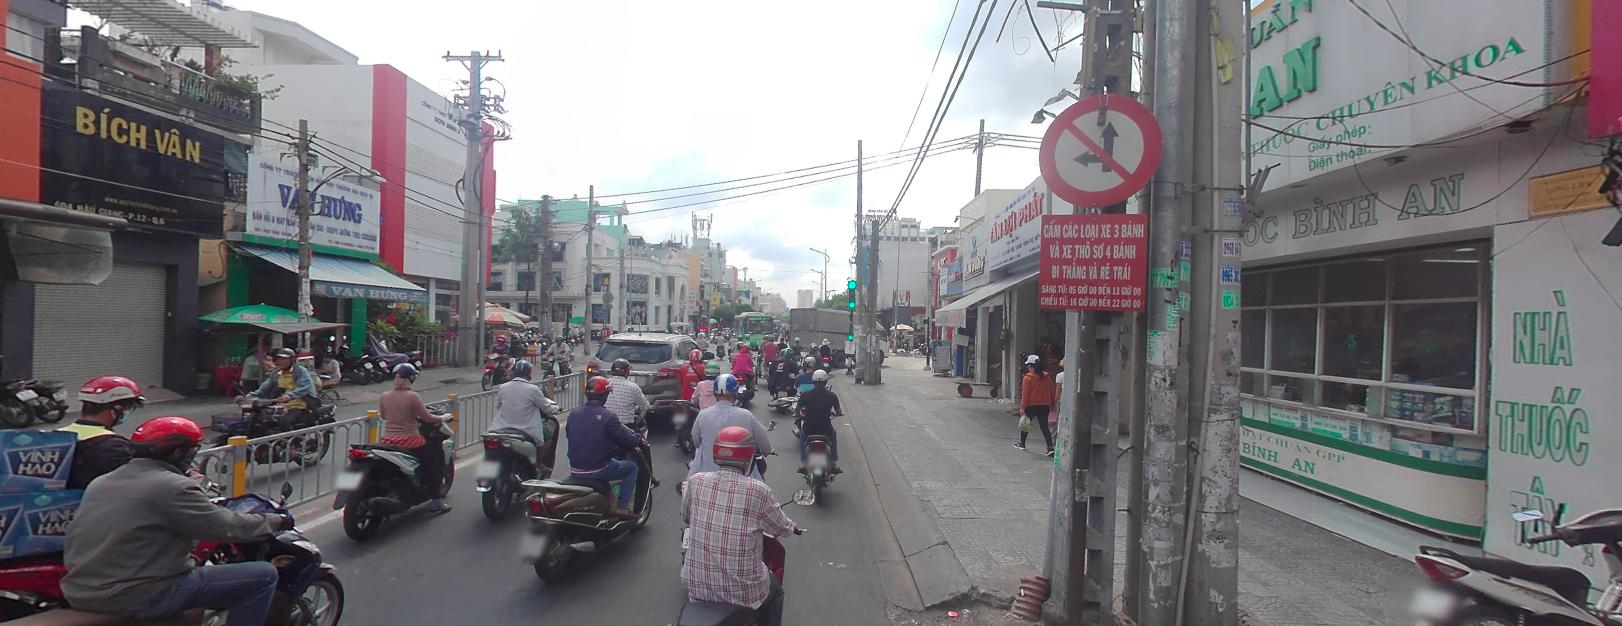Cam re: (1034, 87, 1166, 212)
